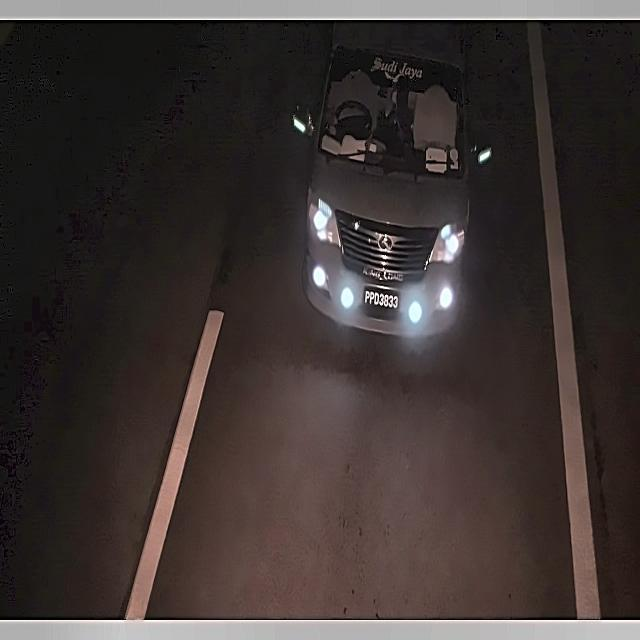car: (358, 272, 410, 318)
